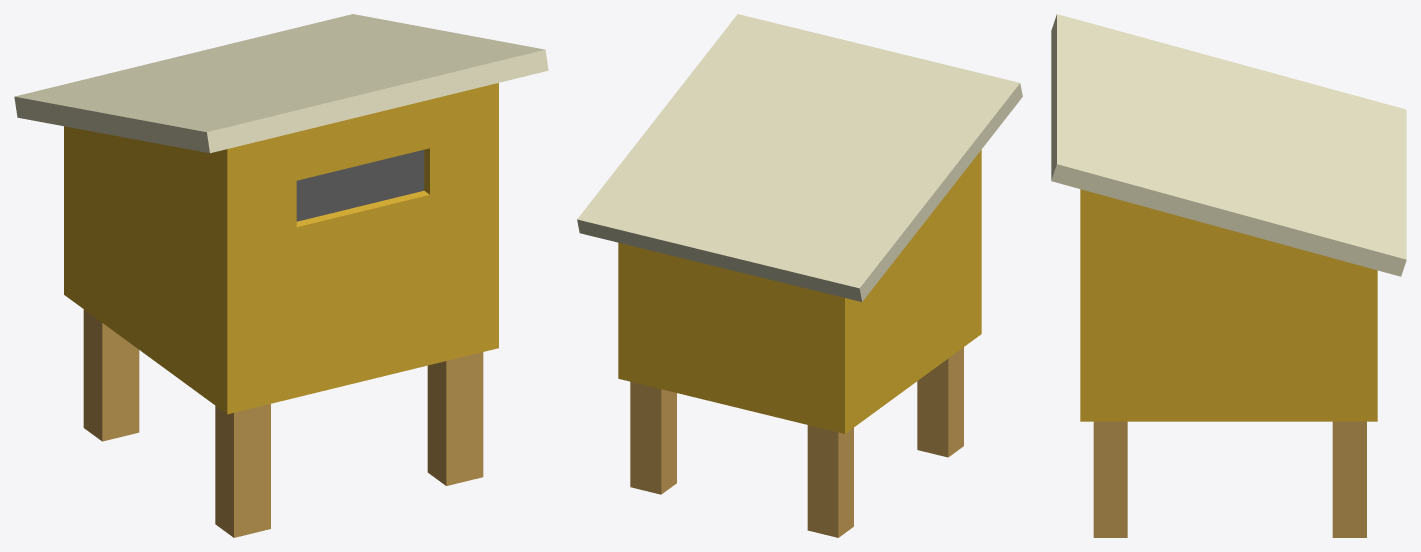
File: hive.fbx
3 views of the same model, side by side, from view 1: azimuth 30°, elevation 25°; view 2: azimuth 150°, elevation 25°; view 3: azimuth 270°, elevation 25° (orthographic). The views are drawn at different scales.
Parts seen in each view (by area): view 1: Cube_12; view 2: Cube_12; view 3: Cube_12.
Part boxes in pixels (x1,y1,x2,y2): Cube_12: (14,14,548,537); Cube_12: (577,14,1022,537); Cube_12: (1051,14,1406,537).
Bounding box in the file's own units: 82.26 × 100 × 82.34.
